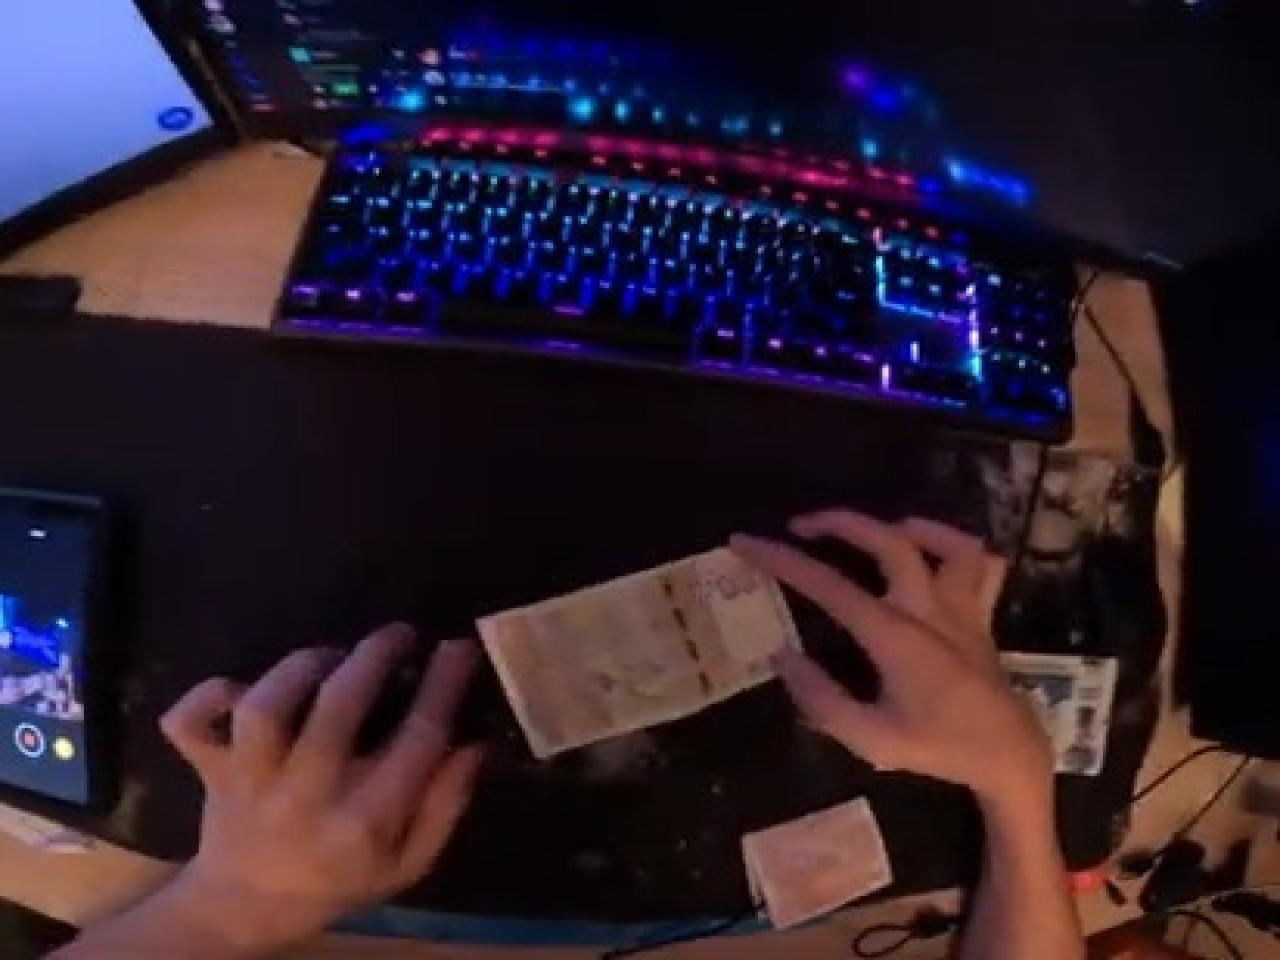50leva: (479, 547, 798, 760)
